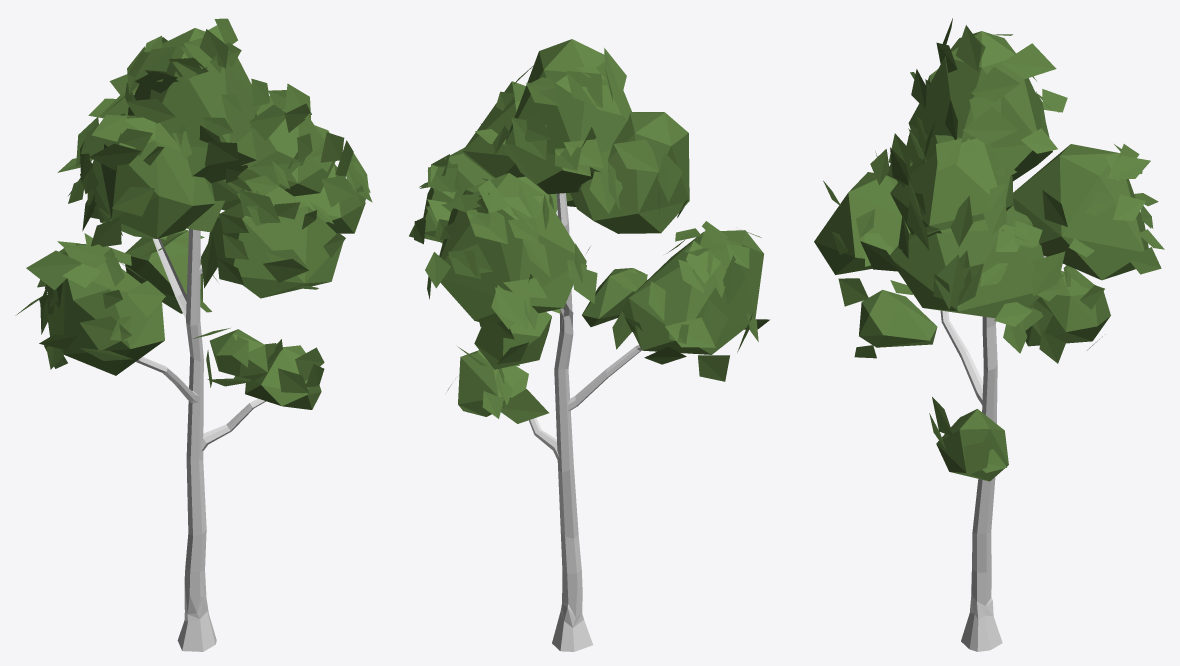
File: tree-beech-young-a.gltf
The picture shows the model from 3 angles, left to right: view 1: azimuth 30°, elevation 25°; view 2: azimuth 150°, elevation 25°; view 3: azimuth 270°, elevation 25°; orthographic projection.
Parts seen in each view (by area): view 1: tree-beech-young-a; view 2: tree-beech-young-a; view 3: tree-beech-young-a.
Boxes of the visible parts, <box> form: tree-beech-young-a: <box>15,18,372,651</box>; tree-beech-young-a: <box>409,39,769,651</box>; tree-beech-young-a: <box>814,18,1164,651</box>.
Bounding box in the file's own units: 0.0344 × 0.0591 × 0.031.
